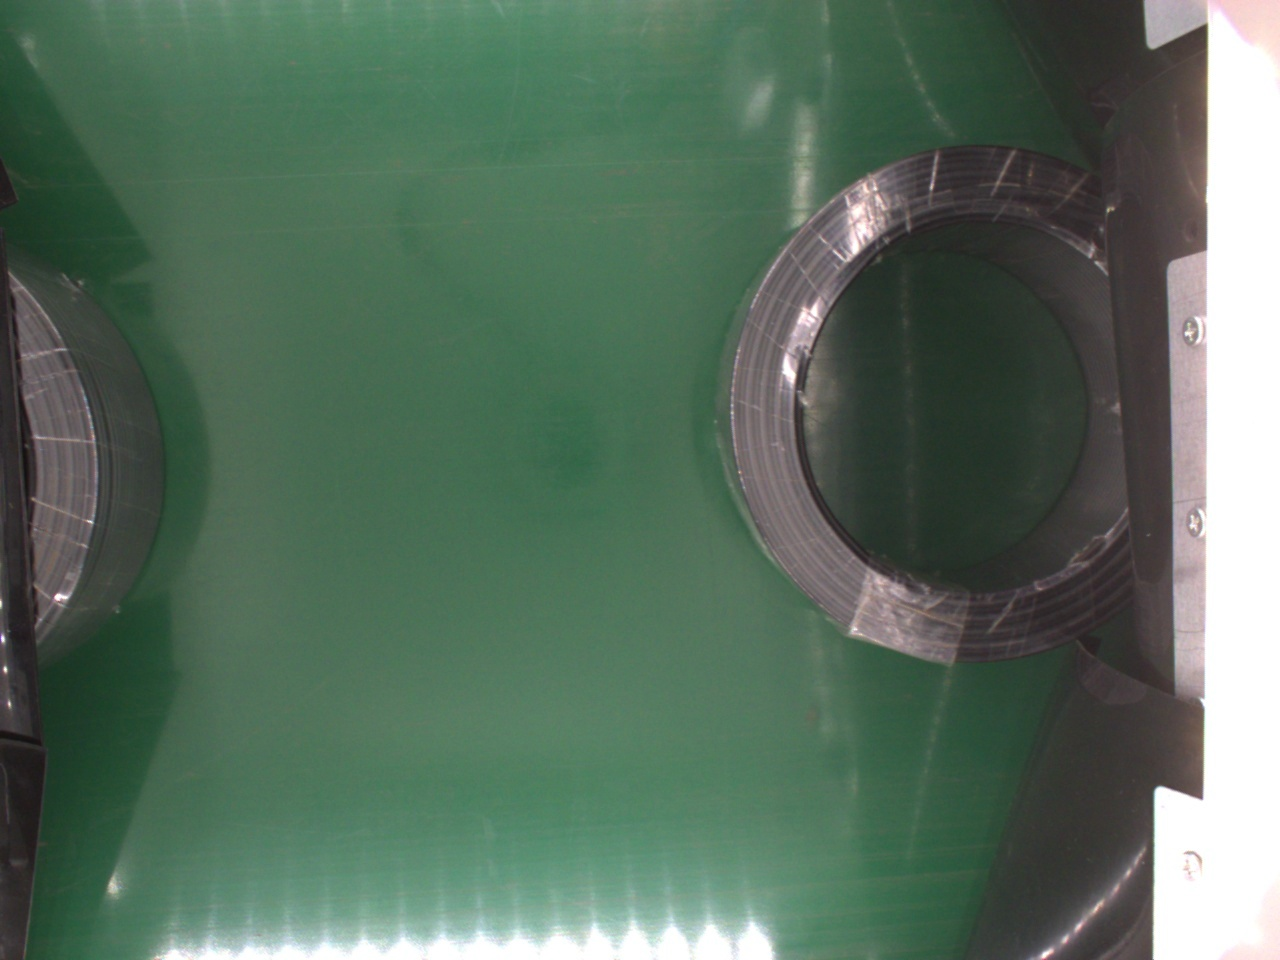black: (715, 140, 1141, 665), (7, 262, 161, 659)
